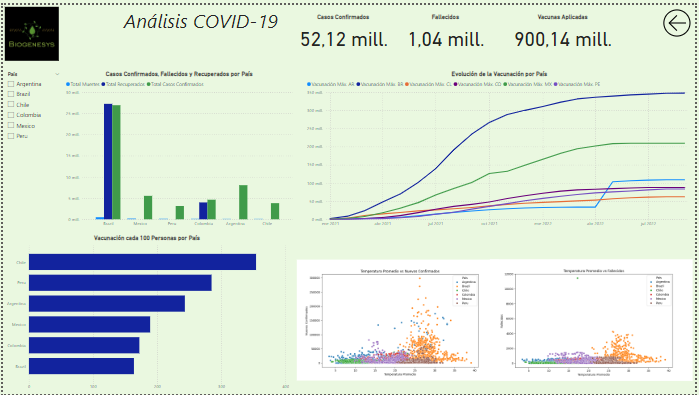

Layout of this report page (visuals, bound fields, positions):
{"tool":"powerbi","page":{"name":"COVID-19","canvas":[1920,1080],"ordinal":1},"visuals":[{"type":"card","title":"Casos Confirmados","fields":{"Values":["Medidas.Total Casos Confirmados"]},"box":[800,23.3,290,110],"z":0},{"type":"card","title":"Fallecidos","fields":{"Values":["Medidas.Total Muertes"]},"box":[1090,23.3,280,110],"z":1000},{"type":"clusteredColumnChart","title":"Casos Confirmados, Fallecidos y Recuperados por País","fields":{"Category":["DatosFinales.country_name"],"Y":["Medidas.Total Muertes","Medidas.Total Recuperados","Medidas.Total Casos Confirmados"]},"box":[170,180,640,445],"z":2000},{"type":"lineChart","title":"Evolución de la Vacunación por País","fields":{"Y":["Medidas.Vacunación Máx. AR","Medidas.Vacunación Máx. BR","Medidas.Vacunación Máx. CL","Medidas.Vacunación Máx. CO","Medidas.Vacunación Máx. MX","Medidas.Vacunación Máx. PE"],"Category":["DatosFinales.date.Variación.Jerarquía de fechas.Año","DatosFinales.date.Variación.Jerarquía de fechas.Mes"]},"box":[840,180,1080,445],"z":3000},{"type":"barChart","title":"Vacunación cada 100 Personas por País","fields":{"Y":["Medidas.Vacunación cada 100 personas"],"Category":["DatosFinales.country_name"]},"box":[0,637.1,800,442.9],"z":4000},{"type":"card","title":"Vacunas Aplicadas","fields":{"Values":["Medidas.Total Vacunas Aplicadas"]},"box":[1370,23.3,370,110],"z":5000},{"type":"pythonVisual","fields":{"Values":["DatosFinales.new_confirmed"]},"box":[810,673.3,570,406.7],"z":6000},{"type":"pythonVisual","fields":{"Values":["DatosFinales.new_deceased"]},"box":[1346.7,673.3,573.3,406.7],"z":7000},{"type":"actionButton","box":[1826,0,94,100],"z":8000},{"type":"textbox","box":[300,0,500,140],"z":9000},{"type":"slicer","fields":{"Values":["DatosFinales.country_name"]},"box":[0,180,170,222],"z":10000},{"type":"image","box":[0,0,160,160],"z":11000}]}

Visuals, with their boxes in screenshot pixels (x1, y1, x2, y2), scaled from the page's 1920x1080 canvas onto the 699x395 screenshot:
"Casos Confirmados" card: bbox=(291, 9, 397, 49)
"Fallecidos" card: bbox=(397, 9, 499, 49)
"Casos Confirmados, Fallecidos y Recuperados por País" clusteredColumnChart: bbox=(62, 66, 295, 229)
"Evolución de la Vacunación por País" lineChart: bbox=(306, 66, 698, 229)
"Vacunación cada 100 Personas por País" barChart: bbox=(0, 233, 291, 394)
"Vacunas Aplicadas" card: bbox=(499, 9, 633, 49)
pythonVisual - DatosFinales.new_confirmed: bbox=(295, 246, 502, 394)
pythonVisual - DatosFinales.new_deceased: bbox=(490, 246, 698, 394)
actionButton: bbox=(665, 0, 698, 37)
textbox: bbox=(109, 0, 291, 51)
slicer - DatosFinales.country_name: bbox=(0, 66, 62, 147)
image: bbox=(0, 0, 58, 59)
